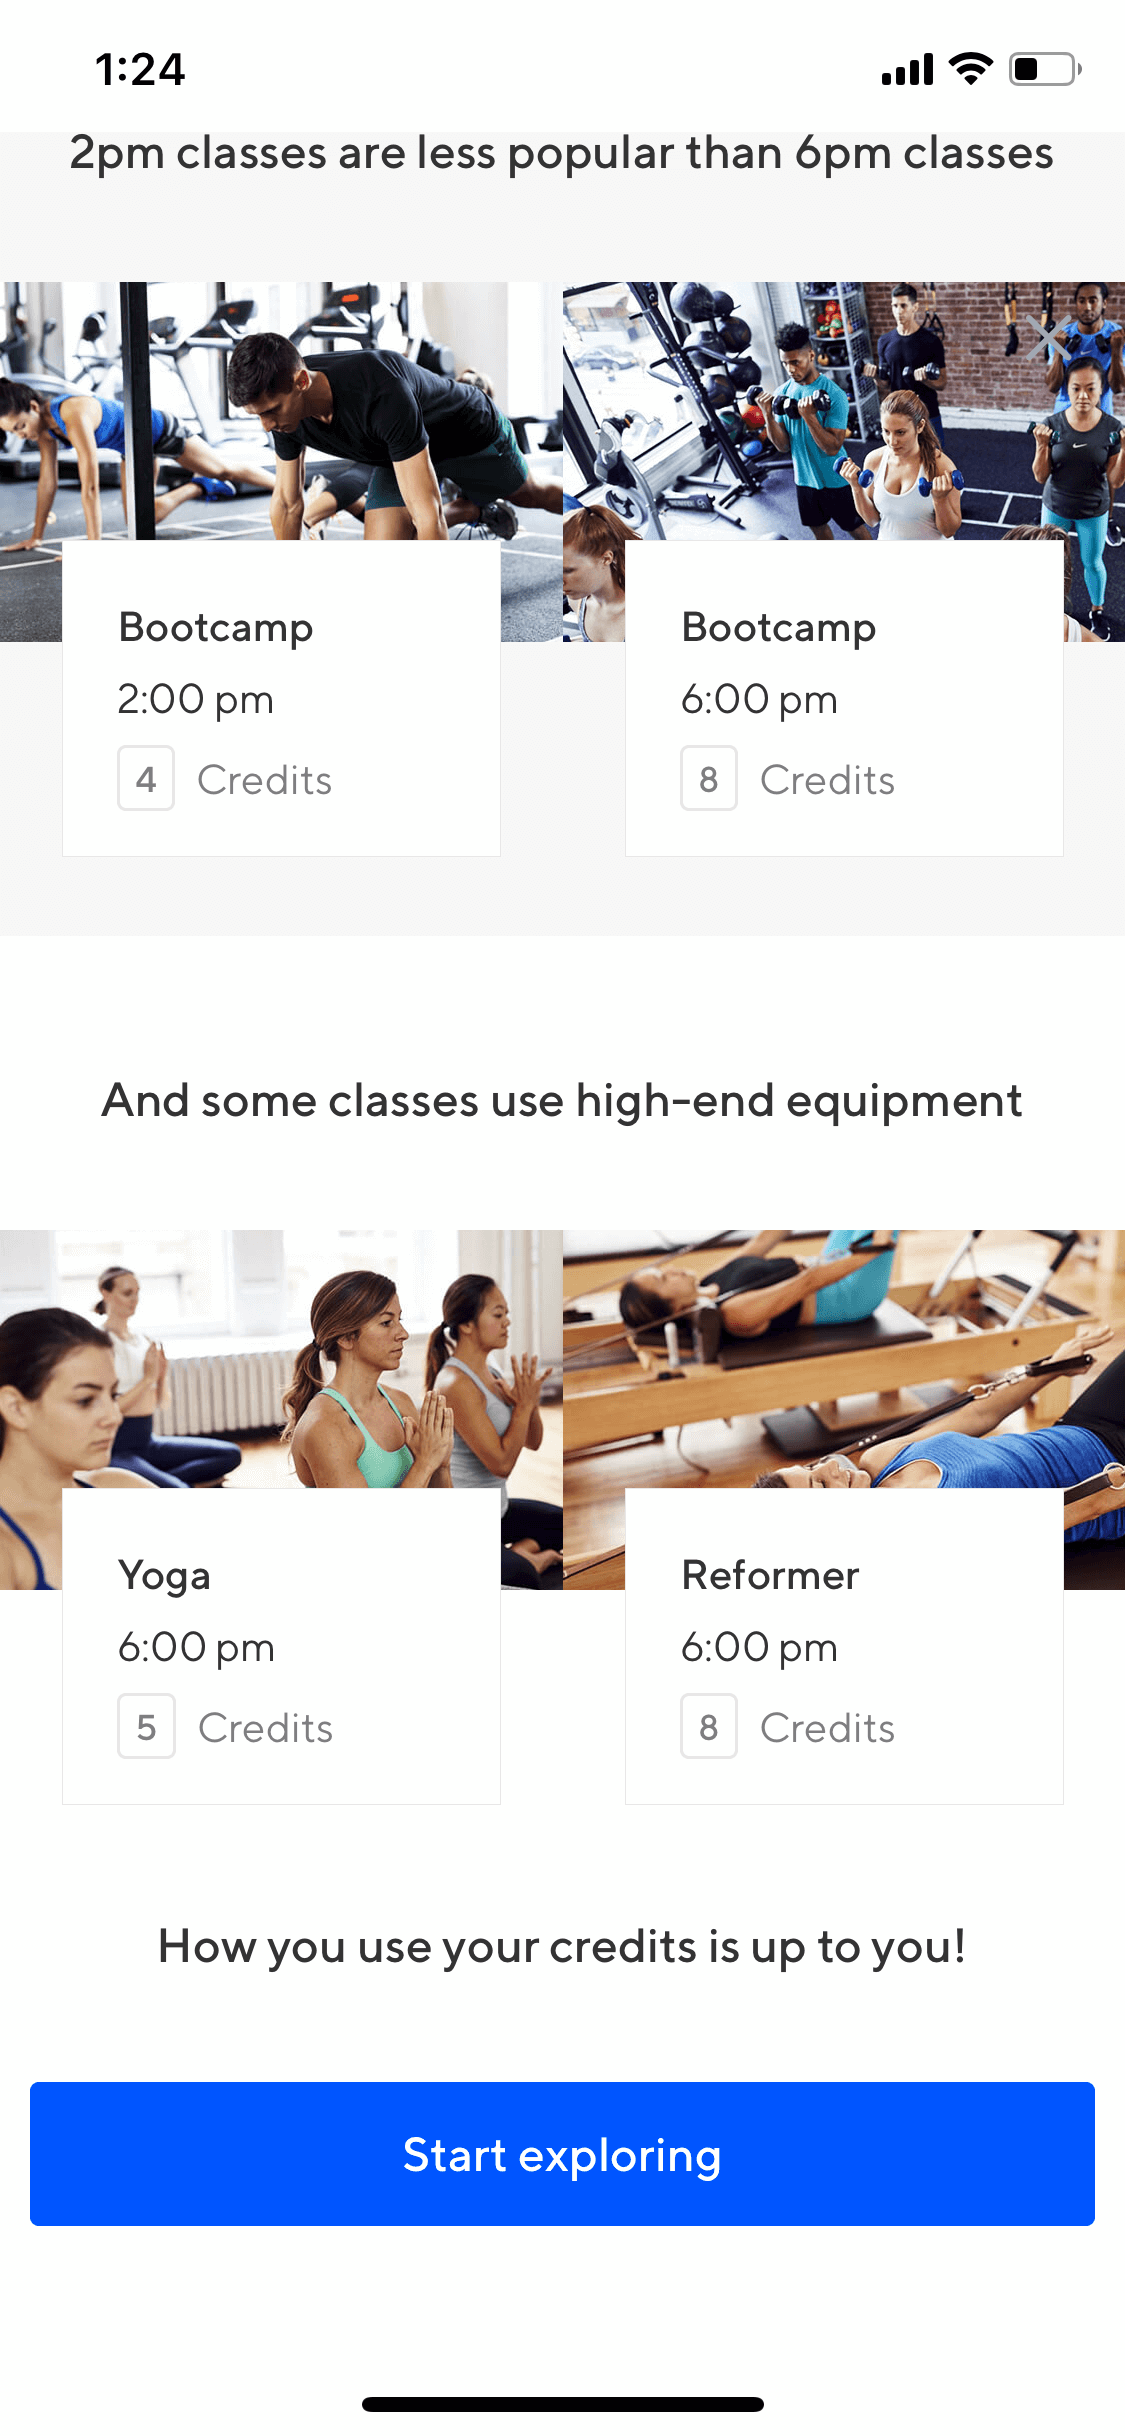Buttons: (16, 2052, 1113, 2243)
